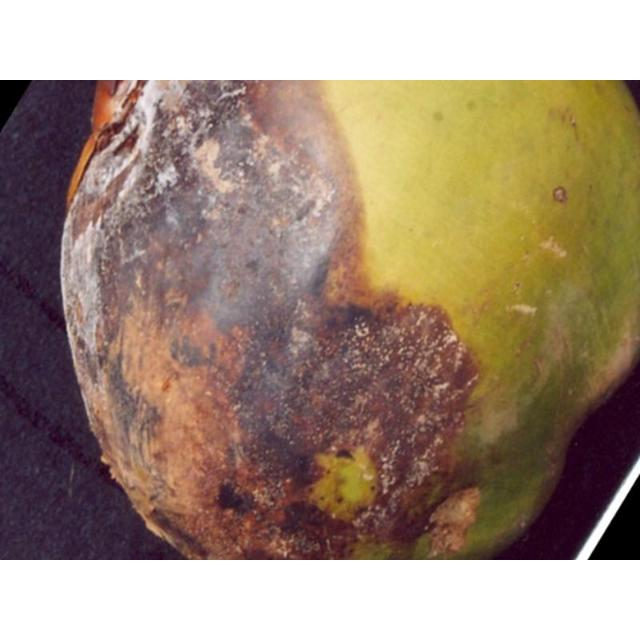damaged: (62, 80, 639, 559)
